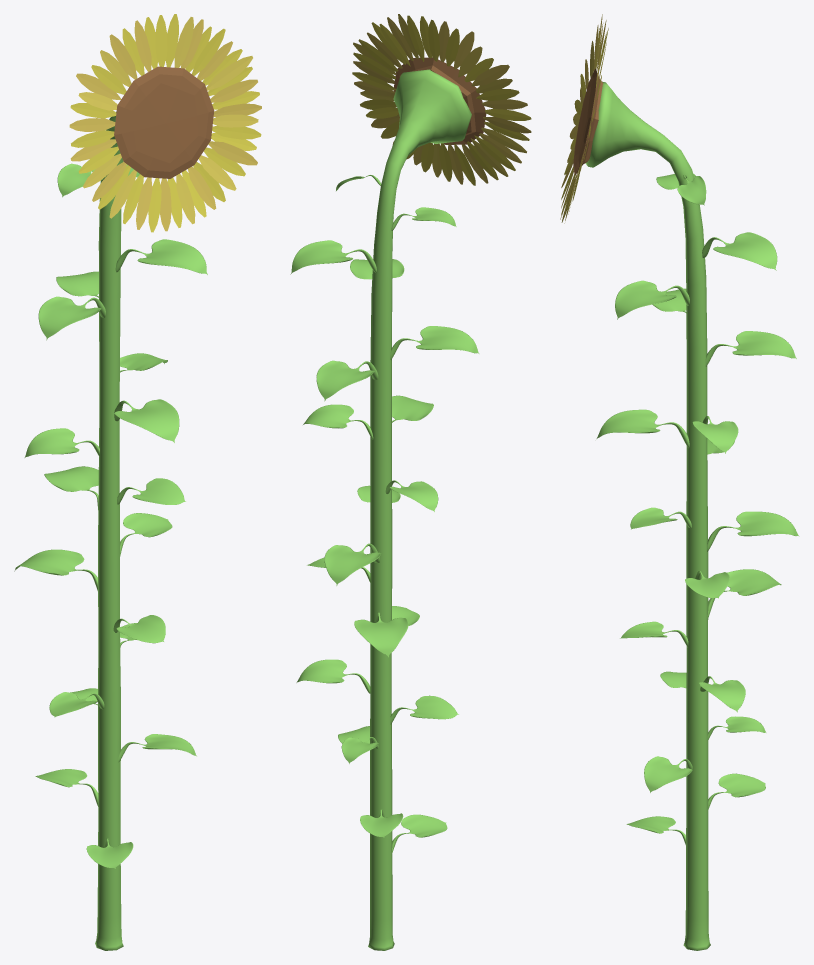
The model's file is Sunflower.fbx.
The picture shows the model from 3 angles, left to right: view 1: azimuth 30°, elevation 25°; view 2: azimuth 150°, elevation 25°; view 3: azimuth 270°, elevation 25°; orthographic projection. The views are drawn at different scales.
Visible parts, largest first — view 1: Plane.064; view 2: Plane.064; view 3: Plane.064.
Part boxes in pixels (x1,y1,x2,y2): Plane.064: [14, 14, 261, 950]; Plane.064: [290, 14, 531, 950]; Plane.064: [560, 14, 799, 950].
Size of the model in its own units: 1.22 by 5.87 by 1.39.
